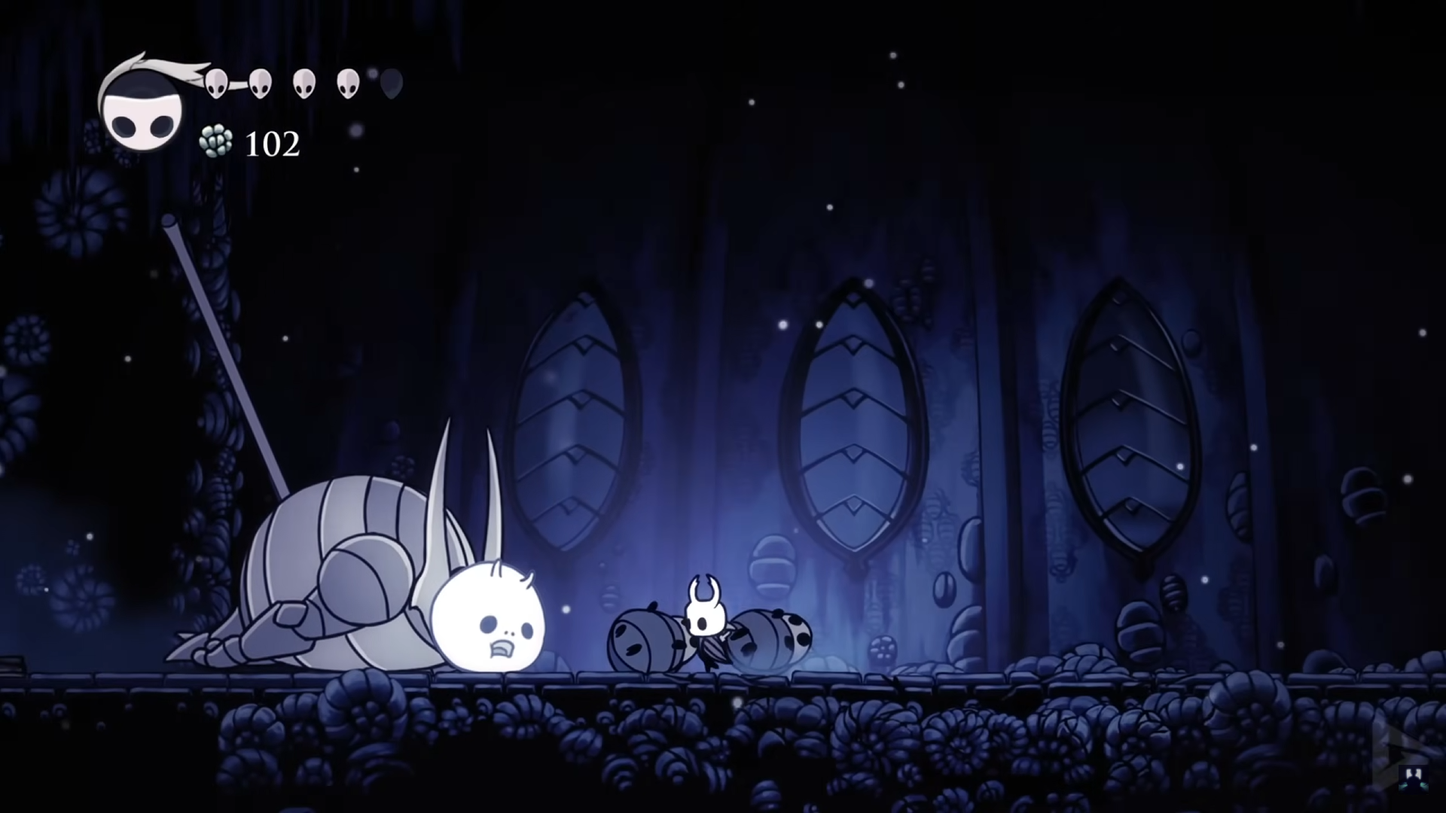HK: (674, 571, 736, 678)
